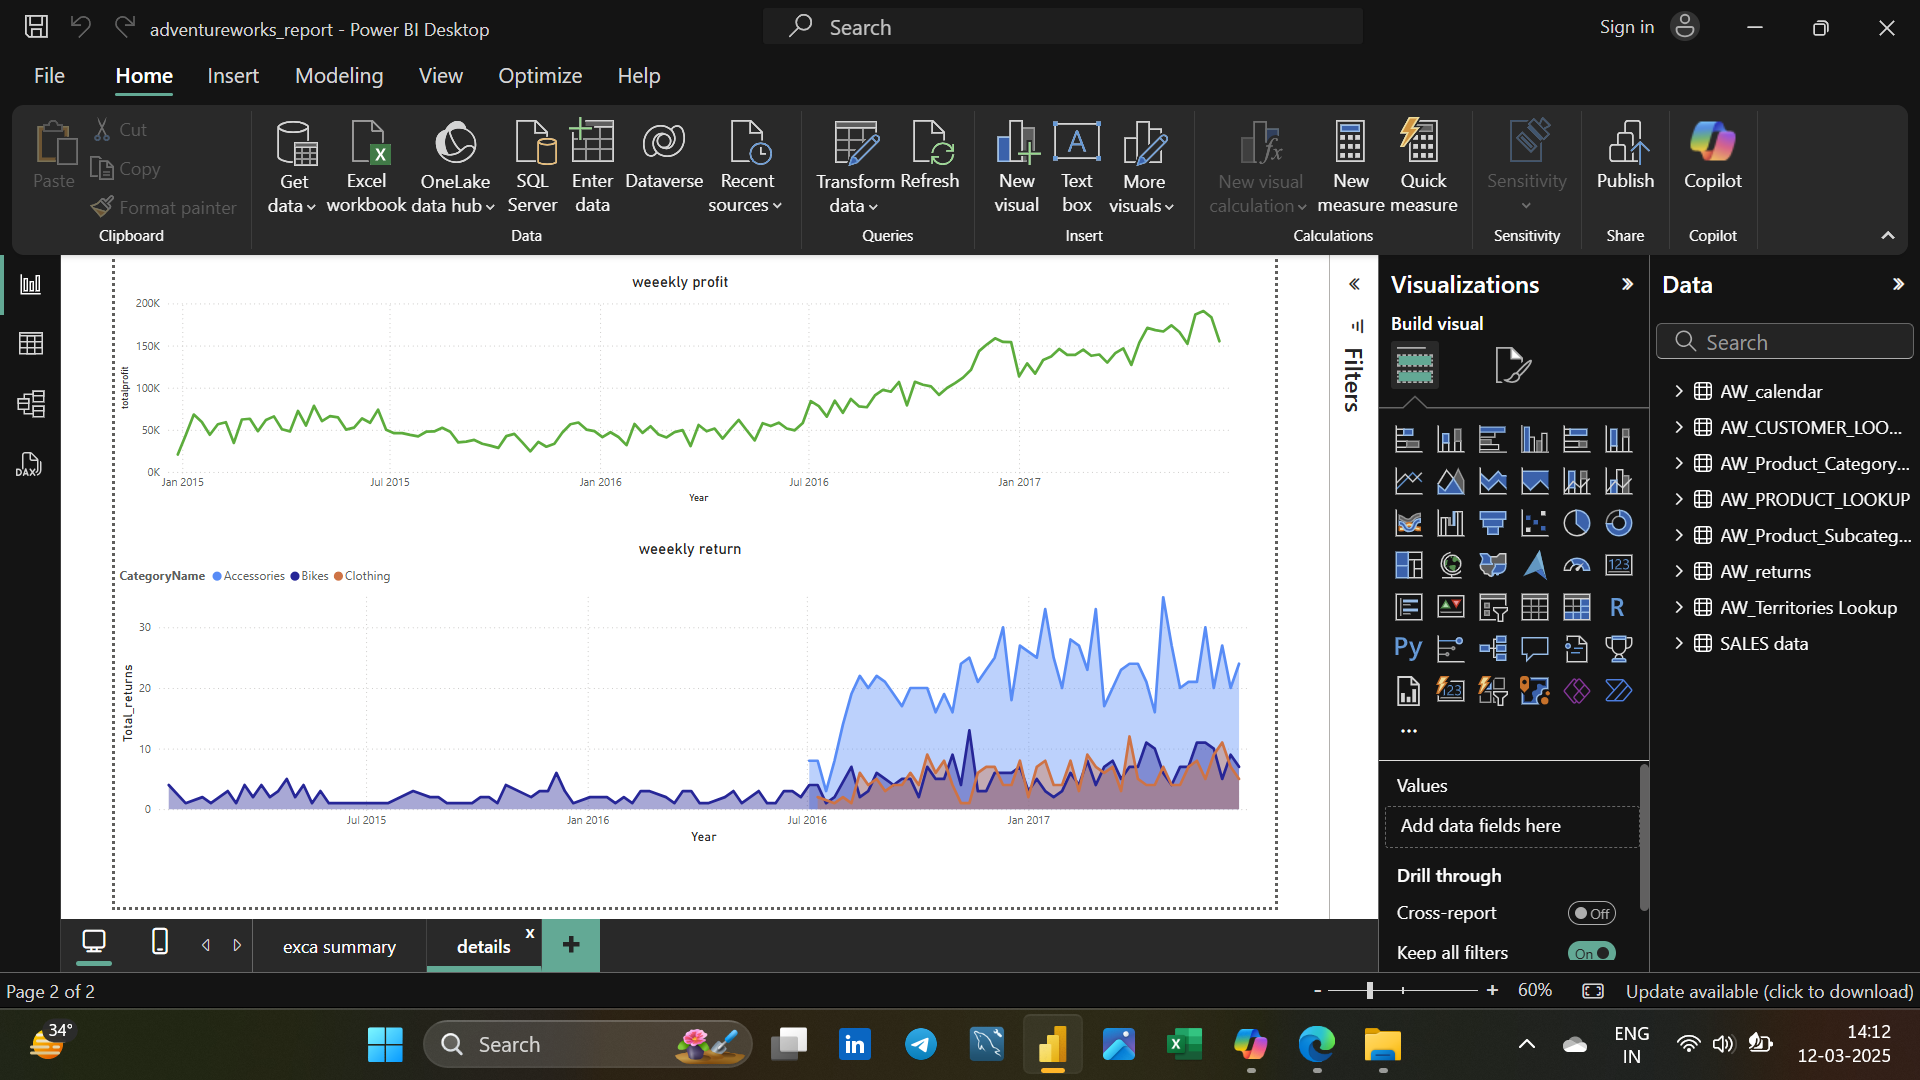

This screenshot's page, from the dashboard's own definition file:
{"tool":"powerbi","page":{"name":"details","canvas":[1280,720],"ordinal":1},"visuals":[{"type":"lineChart","title":"weeekly profit","fields":{"Y":["SALES data.totalprofit"],"Category":["AW_calendar.Start of Week.Variation.Date Hierarchy.Year","AW_calendar.Start of Week.Variation.Date Hierarchy.Quarter","AW_calendar.Start of Week.Variation.Date Hierarchy.Month","AW_calendar.Start of Week.Variation.Date Hierarchy.Day"]},"box":[0,20,1248.3,258.3],"z":0},{"type":"areaChart","title":"weeekly return","fields":{"Category":["AW_calendar.Start of Week.Variation.Date Hierarchy.Year","AW_calendar.Start of Week.Variation.Date Hierarchy.Quarter","AW_calendar.Start of Week.Variation.Date Hierarchy.Month","AW_calendar.Start of Week.Variation.Date Hierarchy.Day"],"Y":["AW_returns.Total_returns"],"Series":["AW_Product_Category_Lookup.CategoryName"]},"box":[0,315,1270,340],"z":1}]}

Visuals, with their boxes on the page's 1280x720 design canvas (x1, y1, x2, y2). These are canvas units, not pixel positions in the 1920x1080 screenshot, which may show the page scaled, cropped or inside an application window:
"weeekly profit" lineChart: x1=0, y1=20, x2=1248, y2=278
"weeekly return" areaChart: x1=0, y1=315, x2=1270, y2=655
